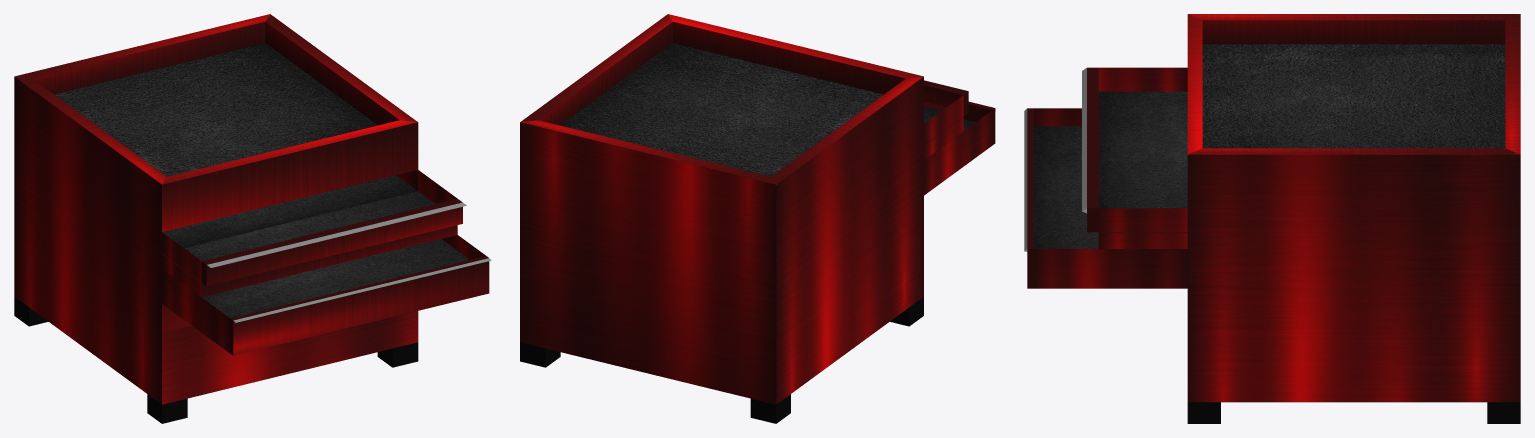
Rendered from CaixaFerramenta.glb.
The picture shows the model from 3 angles, left to right: view 1: azimuth 30°, elevation 25°; view 2: azimuth 150°, elevation 25°; view 3: azimuth 270°, elevation 25°; orthographic projection. The views are drawn at different scales.
Parts seen in each view (by area): view 1: Grade; view 2: Grade; view 3: Grade.
Boxes of the visible parts, x1,y1,x2,y2 form: Grade: (14, 14, 491, 423); Grade: (520, 14, 995, 423); Grade: (1024, 14, 1520, 423).
Size of the model in its own units: 2.02 by 1.79 by 2.98.
7 materials, 5 textured.
